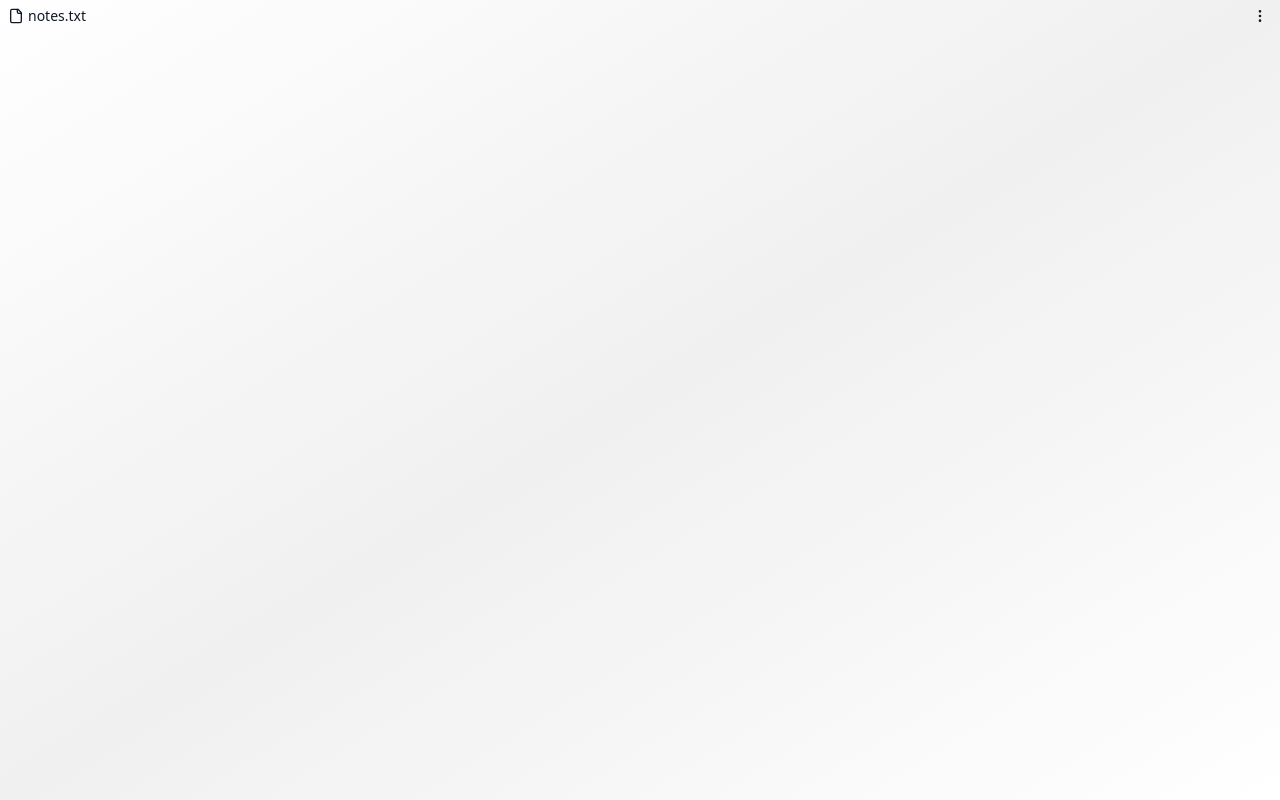
Test: FileTree row actions › shows Korean deletion confirmation without deleting on cancel, directory=false
Later steps or results of the test are not shown.
What coordinates should you click on to do the following:
click the button named "notes.txt 작업"
I would click on:
 (1260, 16)
Its box is [1248,4,1272,28].
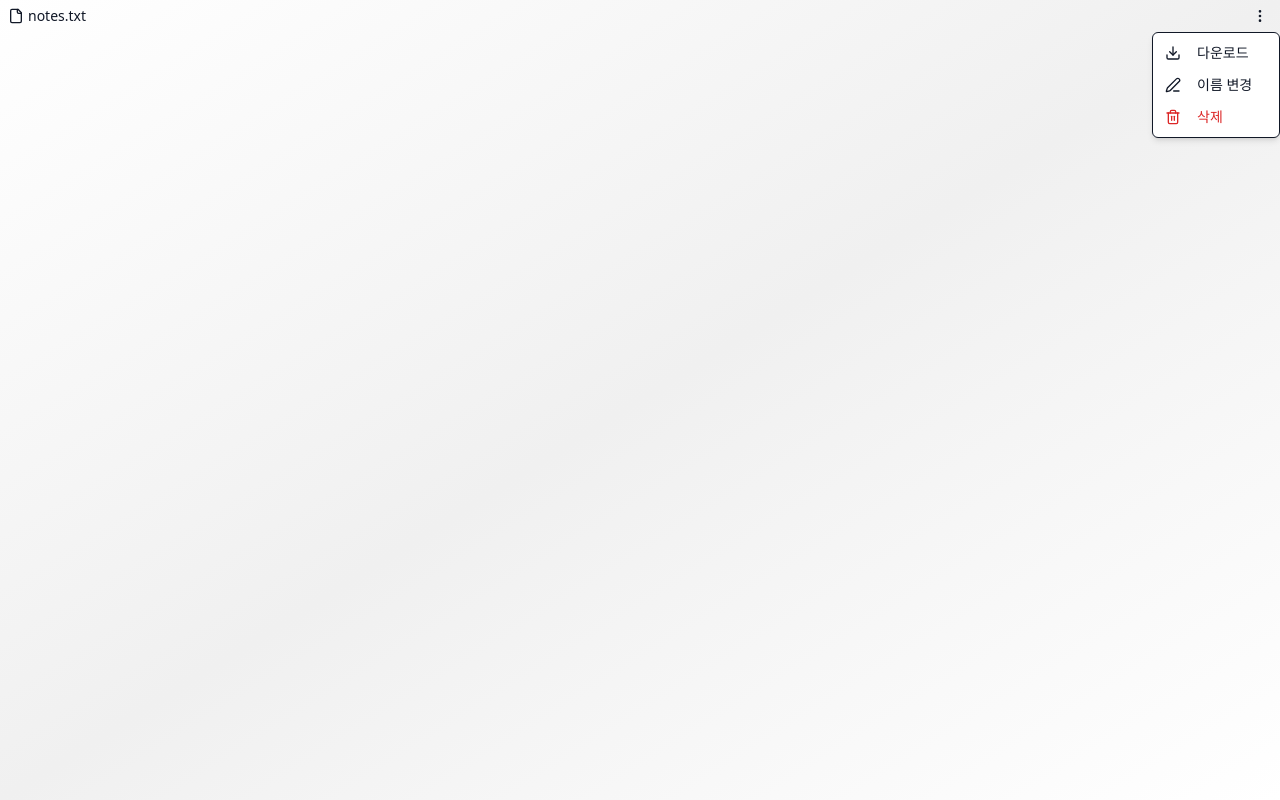
What coordinates should you click on to do the following:
click the menu item "삭제"
I would click on:
 (1173, 117)
Its box is [1165,107,1223,126].
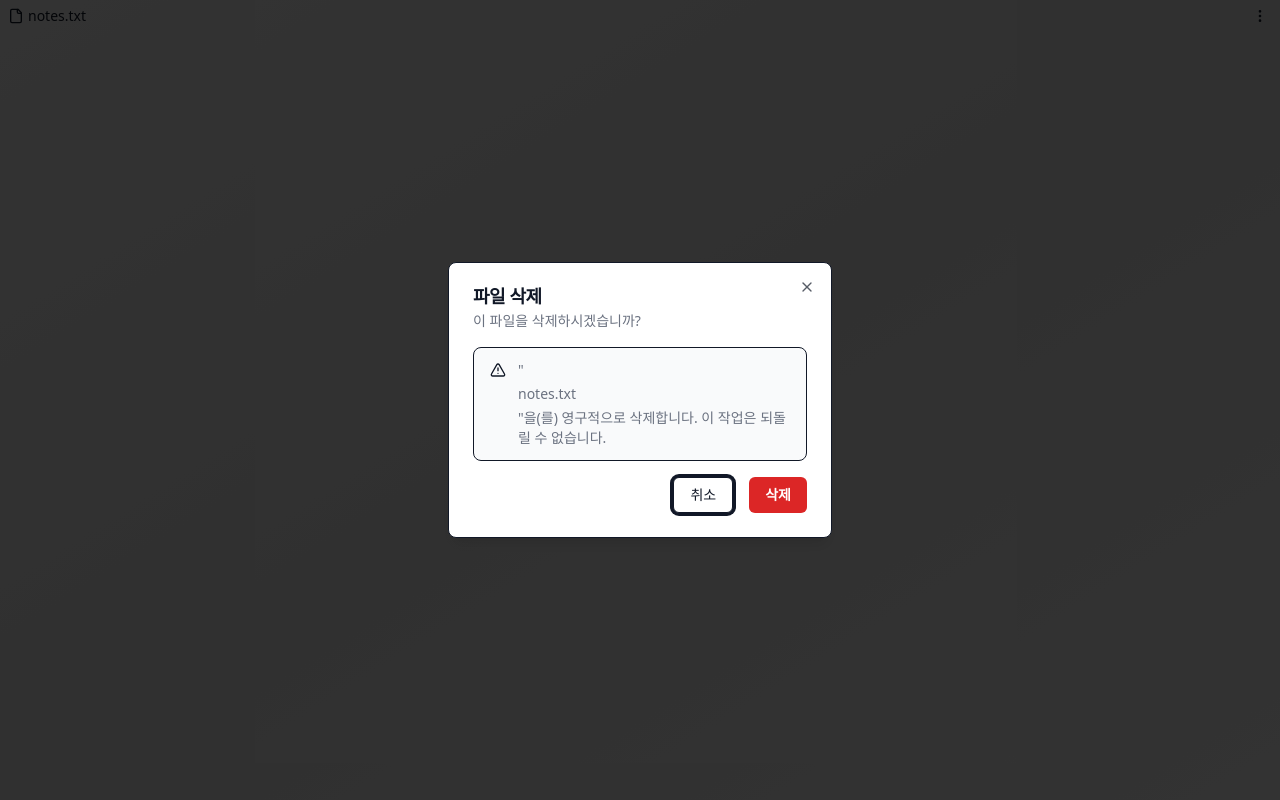
Expected: the dialog "파일 삭제" is shown, [448,262,832,538]
Expected: the text "이 파일을 삭제하시겠습니까?" is shown, [473,311,641,330]
